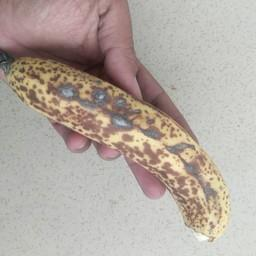Bad_banana: (1, 40, 235, 245)
